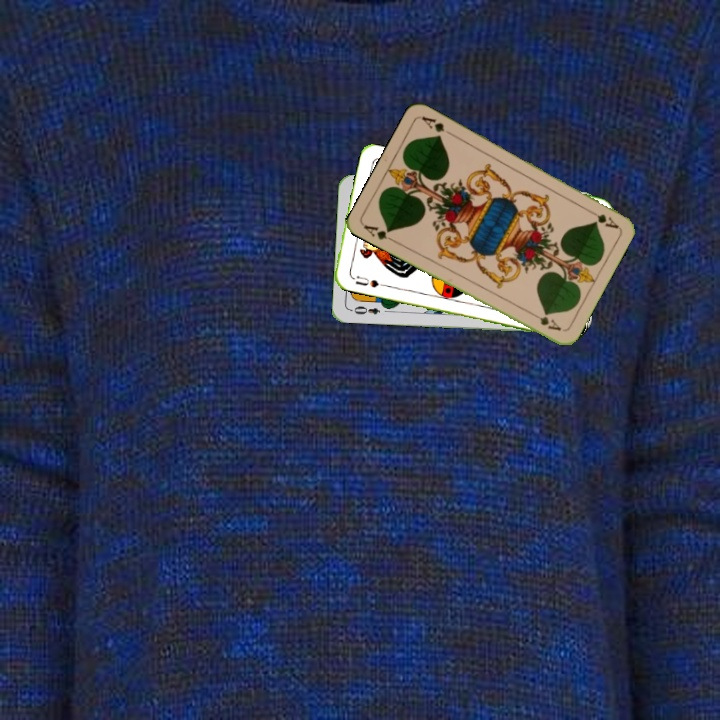EO: (346, 302, 382, 317)
GA: (583, 205, 621, 231), (360, 221, 398, 245)
SU: (351, 272, 387, 290)
